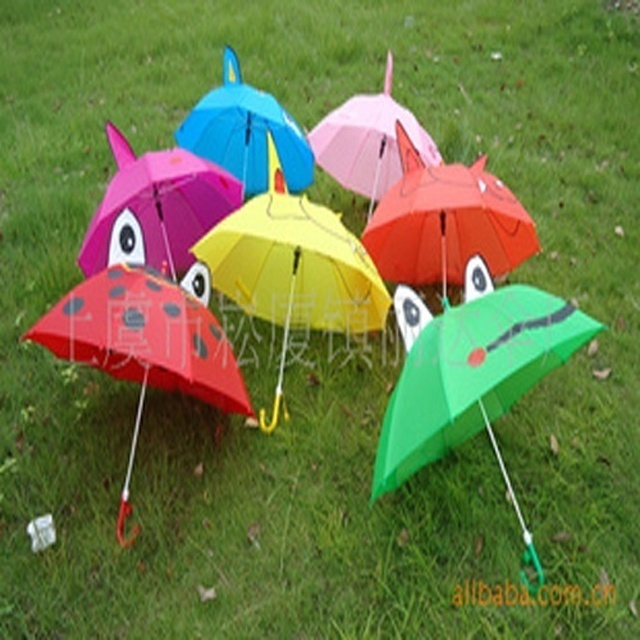umbrella: (367, 278, 615, 596), (15, 262, 257, 553), (192, 185, 399, 440), (357, 160, 544, 302), (73, 146, 250, 287), (305, 88, 446, 223), (172, 81, 317, 199)
